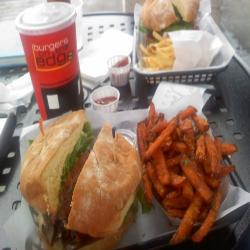burger: (15, 107, 144, 250), (139, 1, 206, 43)
fries: (132, 109, 234, 245), (137, 30, 223, 75)
ketchup: (104, 54, 134, 87), (89, 85, 121, 109)
